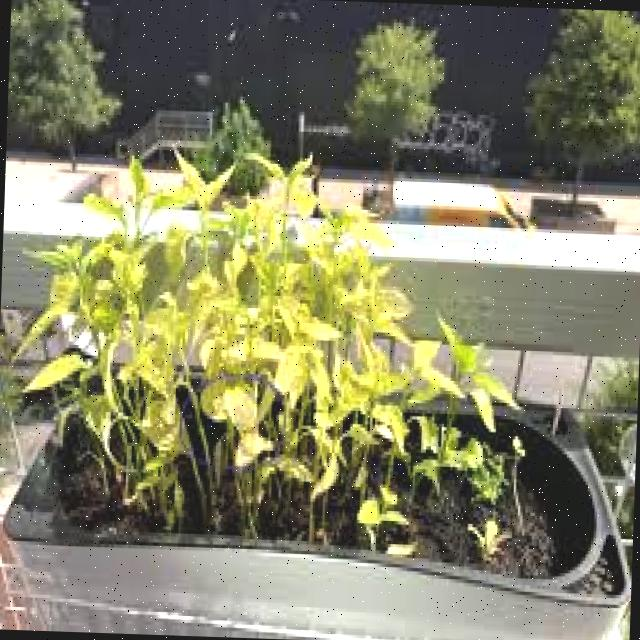yellow: (7, 119, 539, 539)
